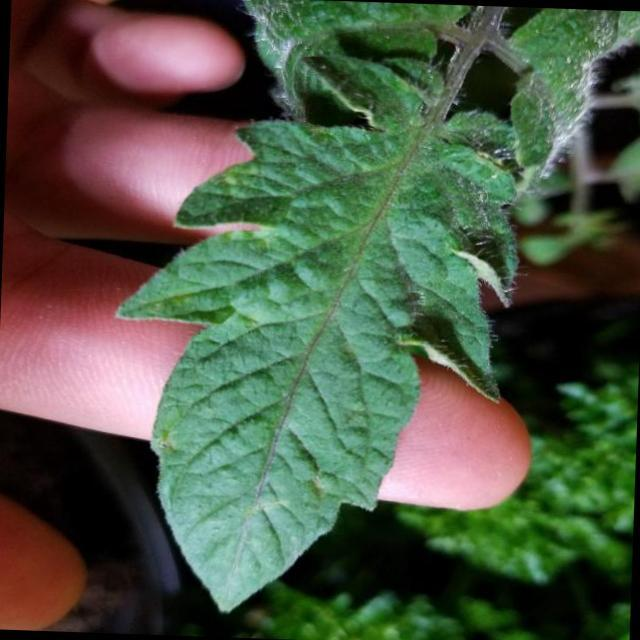Healthy Leaf: (141, 52, 554, 629)
